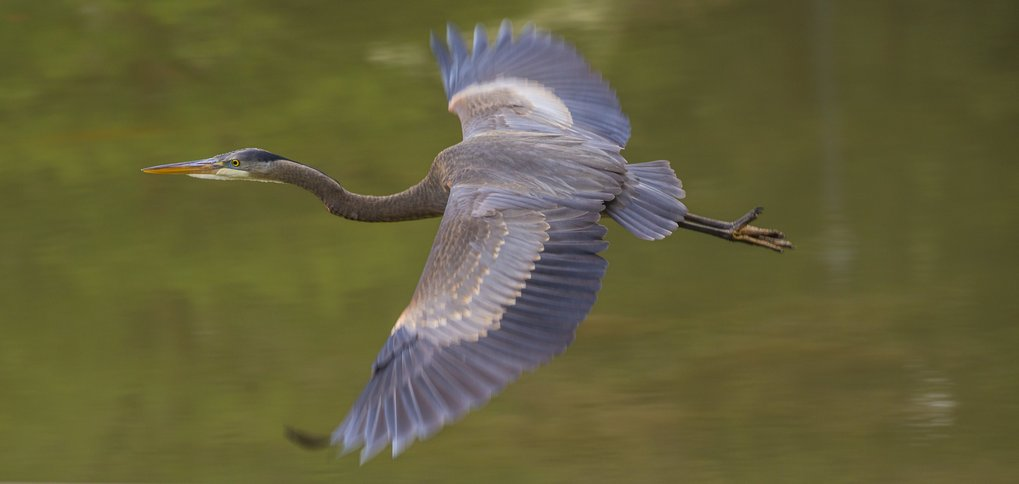heron: (123, 17, 798, 449)
